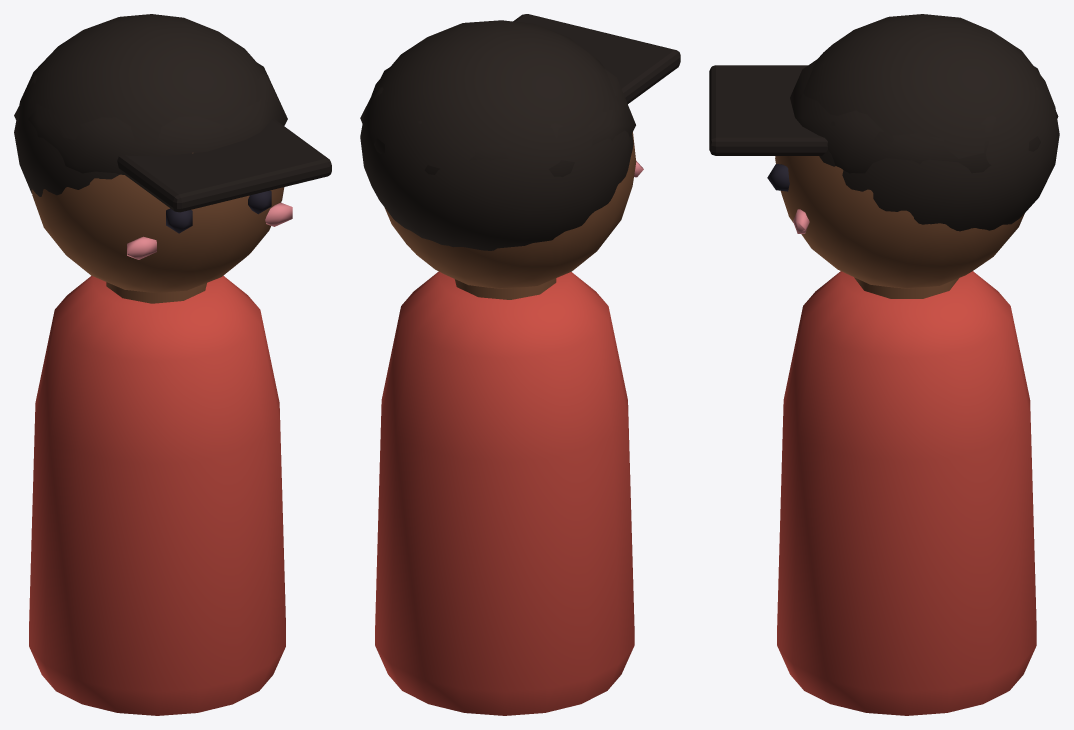
Rendered from person_musician.fbx.
3 views of the same model, side by side, from view 1: azimuth 30°, elevation 25°; view 2: azimuth 150°, elevation 25°; view 3: azimuth 270°, elevation 25° (orthographic).
Visible parts, largest first — view 1: Body, Head; view 2: Body, Head; view 3: Body, Head.
Boxes of the visible parts, box(x1,y1,x2,y2) form: Body: box(29, 275, 285, 715); Head: box(14, 14, 331, 292); Body: box(375, 271, 634, 715); Head: box(360, 14, 680, 288); Body: box(777, 271, 1036, 715); Head: box(709, 14, 1059, 288).
Bounding box in the file's own units: 0.208 × 0.5394 × 0.266.
